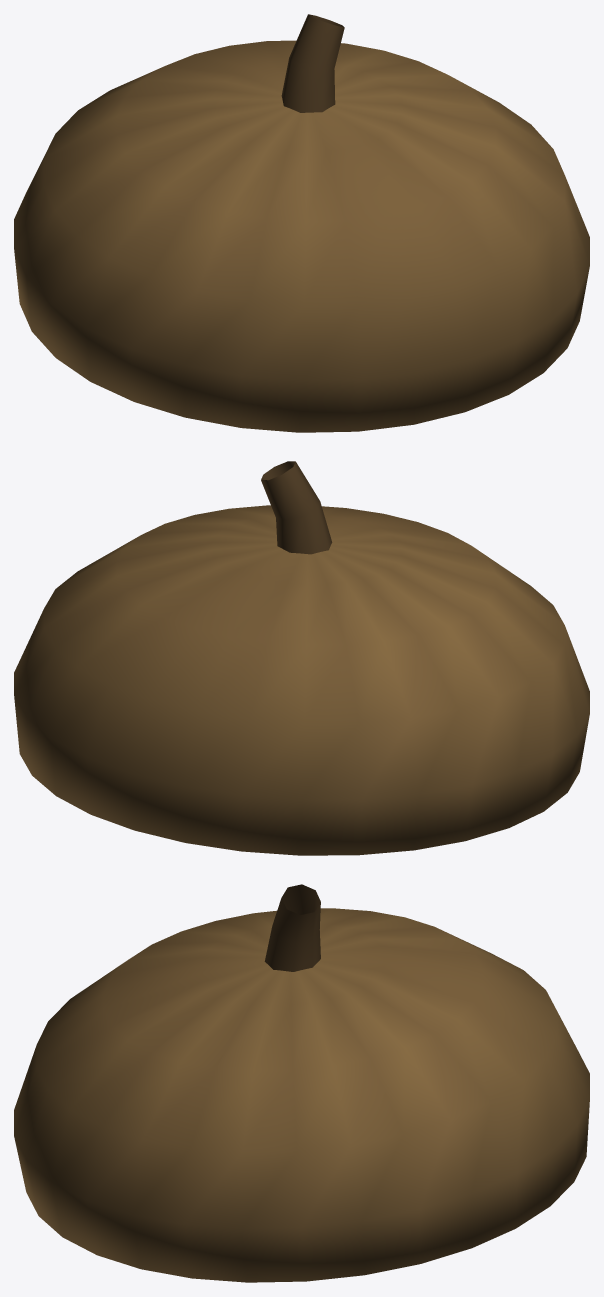
Rendered from Wear_Acorn.fbx.
The picture shows the model from 3 angles, top to bottom: view 1: azimuth 30°, elevation 25°; view 2: azimuth 150°, elevation 25°; view 3: azimuth 270°, elevation 25°; orthographic projection.
Visible parts, largest first — view 1: Wear_Acorn; view 2: Wear_Acorn; view 3: Wear_Acorn.
Part boxes in pixels (x1,y1,x2,y2): Wear_Acorn: (14,14,589,432); Wear_Acorn: (14,461,589,855); Wear_Acorn: (14,884,589,1282).
Size of the model in its own units: 0.146 by 0.0832 by 0.1448.
